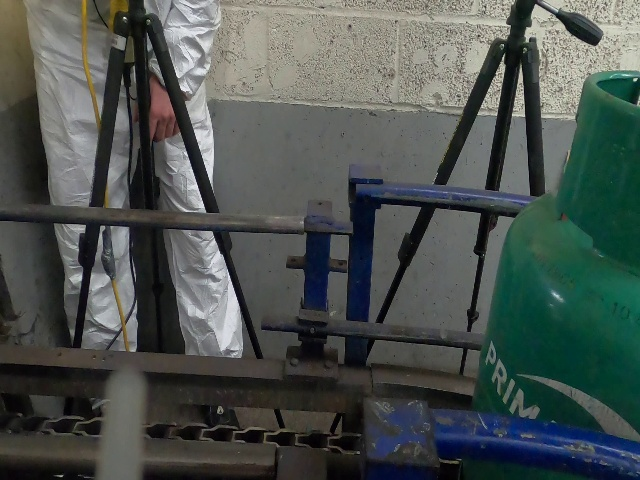gas_bottle: (22, 0, 640, 461)
